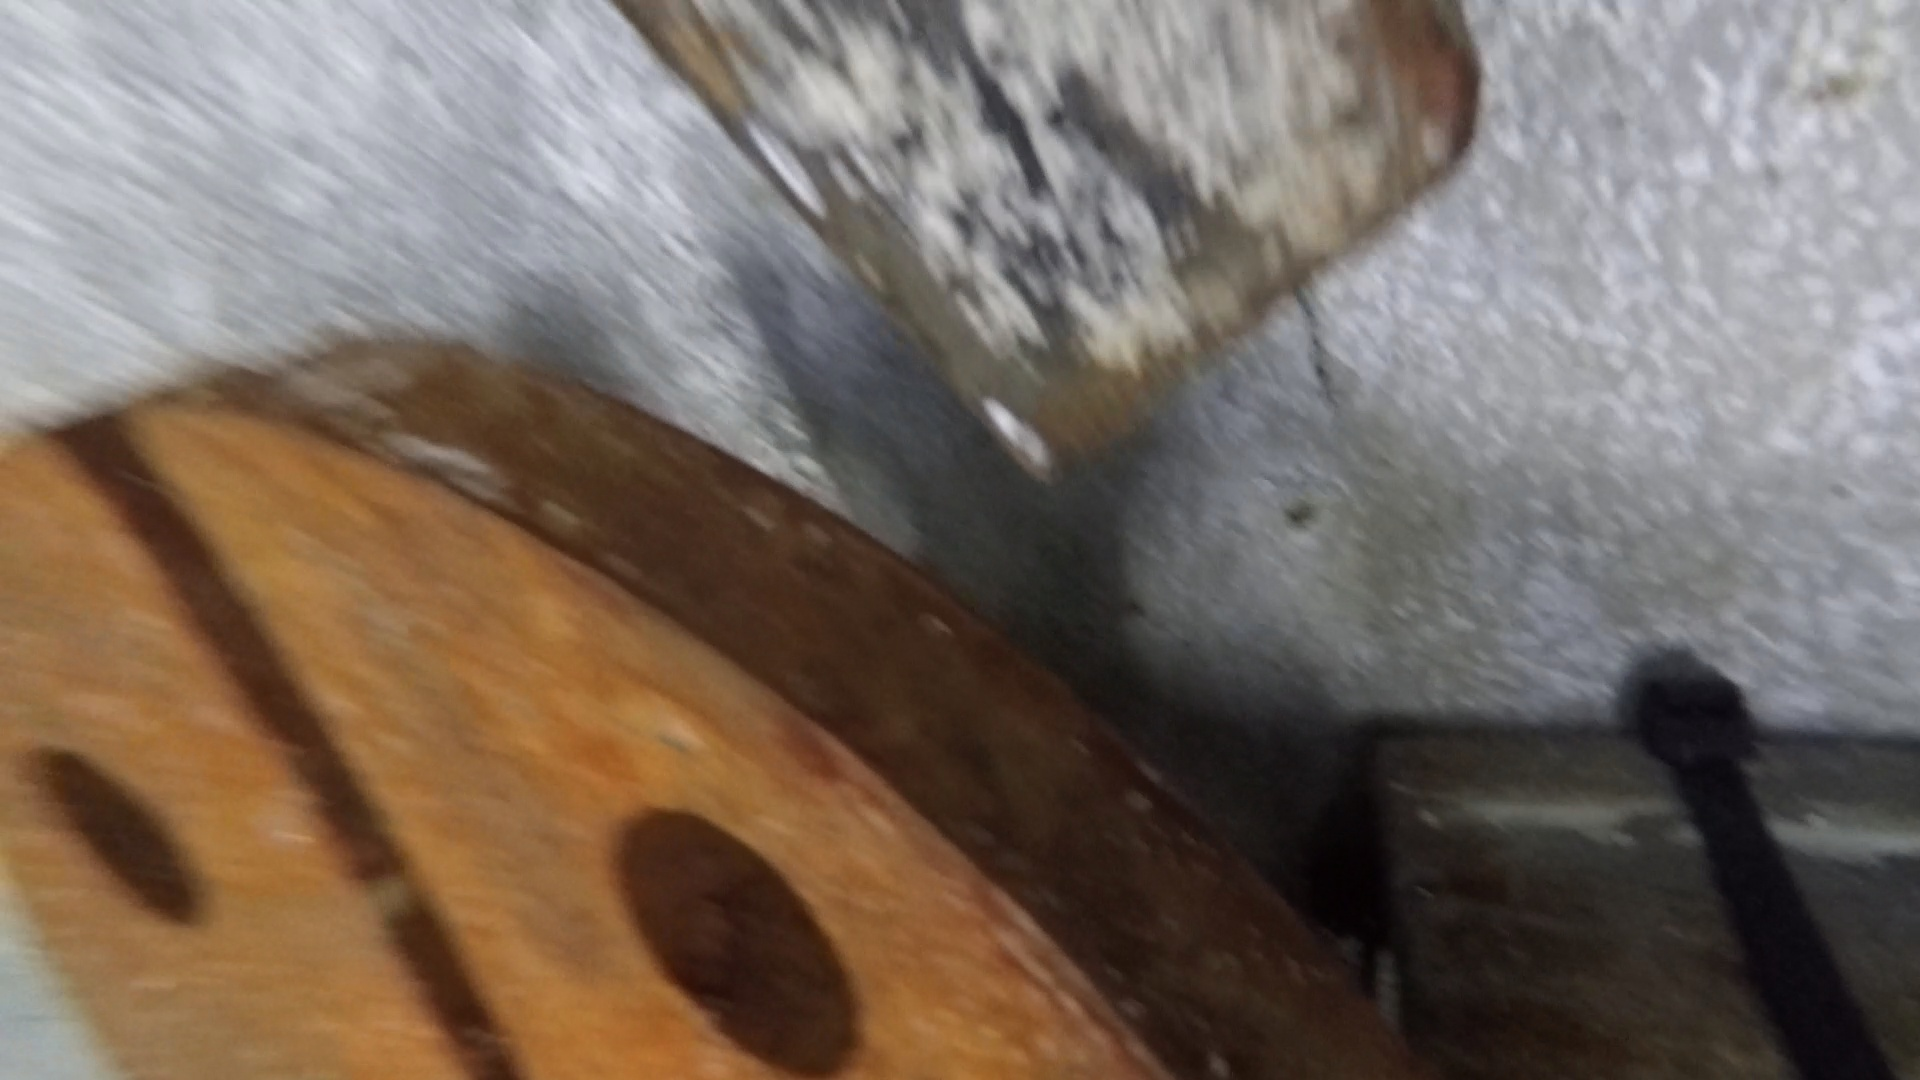flange: (1, 336, 1431, 1079)
led_block: (618, 1, 1478, 483), (1302, 669, 1916, 1080)
